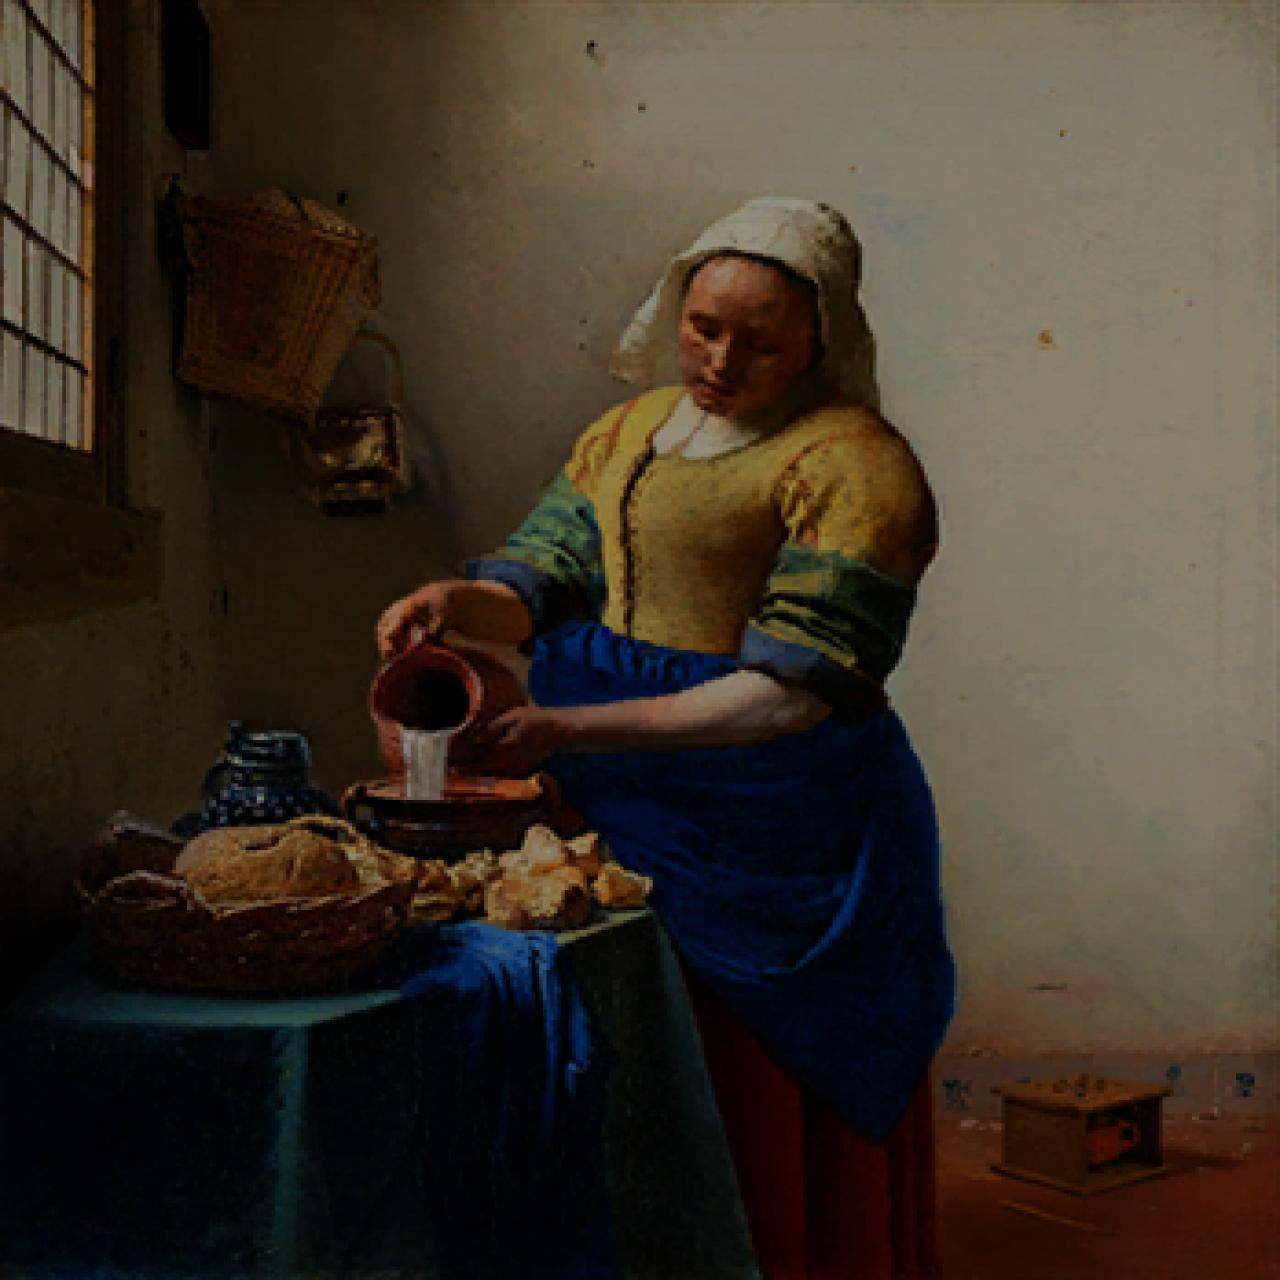MilkmaidFake: (1, 1, 1278, 1278)
